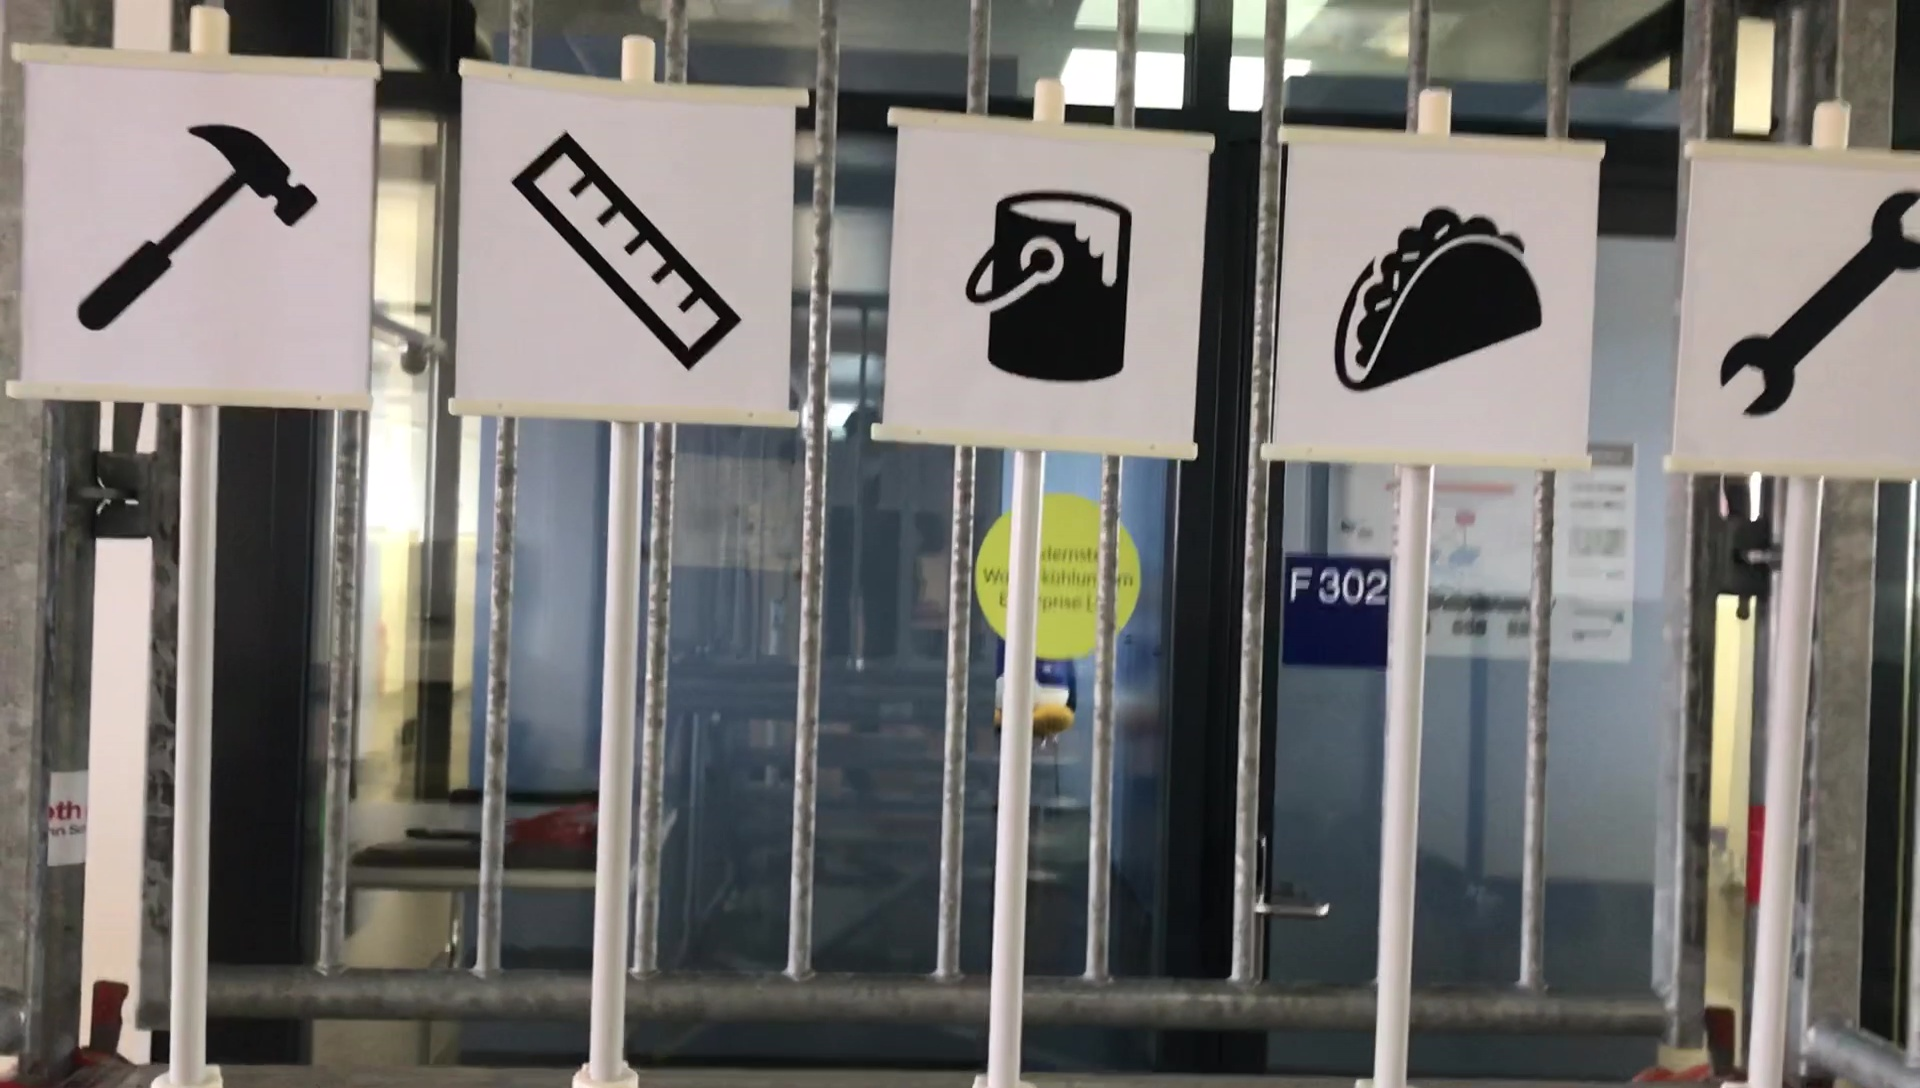bucket: (953, 189, 1146, 392)
hammer: (76, 106, 328, 335)
ruler: (505, 116, 760, 377)
taco: (1328, 189, 1547, 401)
wrench: (1708, 179, 1920, 422)
